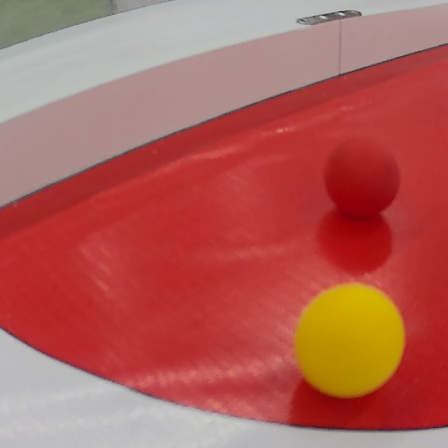red: (323, 135, 406, 215)
red_base: (2, 43, 448, 429)
yellow: (294, 281, 406, 400)
